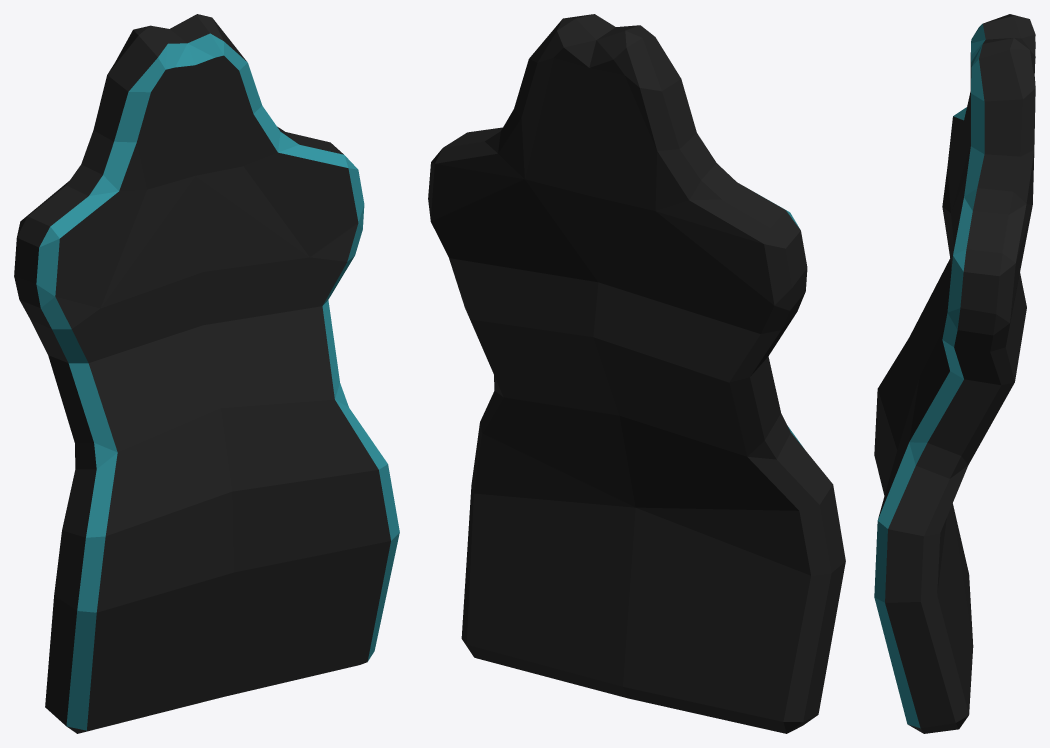
Rendered from Gaming_Chair_Back_1.obj.
3 views of the same model, side by side, from view 1: azimuth 30°, elevation 25°; view 2: azimuth 150°, elevation 25°; view 3: azimuth 270°, elevation 25° (orthographic). The views are drawn at different scales.
Parts seen in each view (by area): view 1: Gaming_Chair_Back_1; view 2: Gaming_Chair_Back_1; view 3: Gaming_Chair_Back_1.
Part boxes in pixels (x1=…): Gaming_Chair_Back_1: x1=14, y1=14, x2=399, y2=733; Gaming_Chair_Back_1: x1=428, y1=14, x2=845, y2=733; Gaming_Chair_Back_1: x1=874, y1=14, x2=1035, y2=733.
Bounding box in the file's own units: 0.5443 × 0.9989 × 0.2287.
